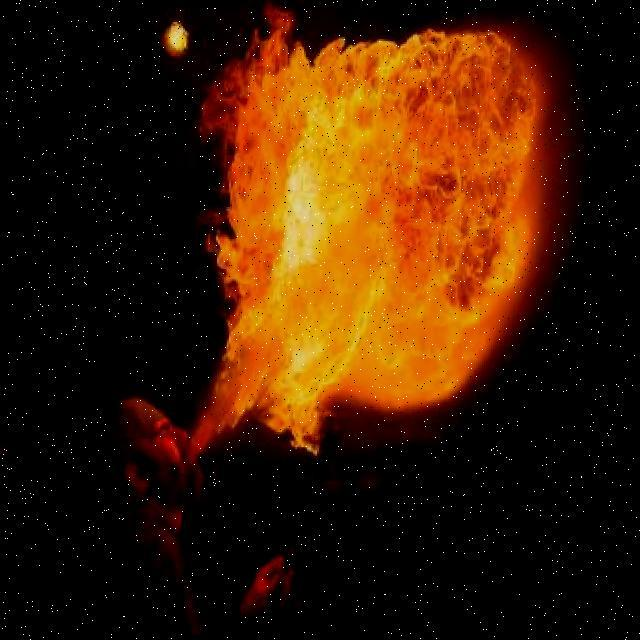Fire: (178, 11, 550, 459)
